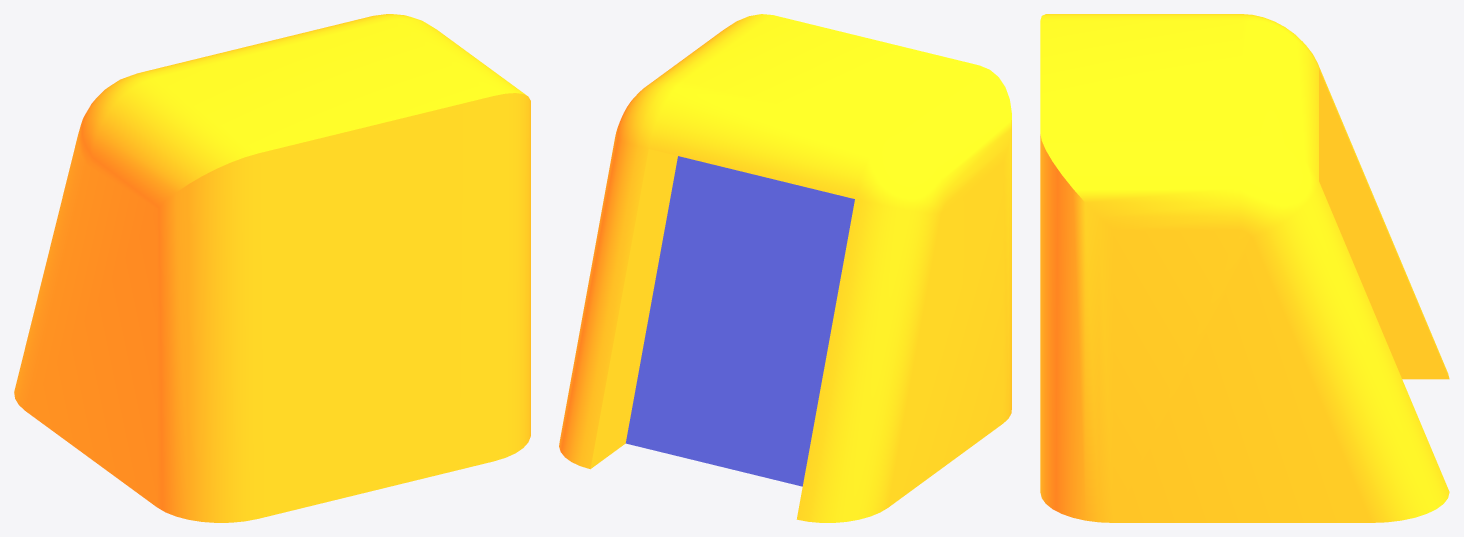
Rendered from gate 3.fbx.
The picture shows the model from 3 angles, left to right: view 1: azimuth 30°, elevation 25°; view 2: azimuth 150°, elevation 25°; view 3: azimuth 270°, elevation 25°; orthographic projection. The views are drawn at different scales.
Visible parts, largest first — view 1: Cube.053; view 2: Cube.053; view 3: Cube.053.
Boxes of the visible parts, bbox=[...] form: Cube.053: bbox=[14, 14, 530, 522]; Cube.053: bbox=[559, 14, 1011, 522]; Cube.053: bbox=[1040, 14, 1449, 522].
Bounding box in the file's own units: 368 × 353 × 365.
